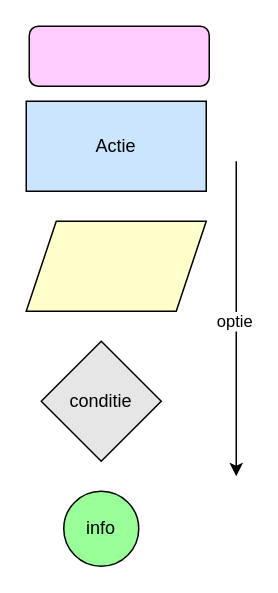
Image size: 278x593. Some labels were removed from this diagram. Here are the shapes that lost their labels. From the top down, the box of each, then its label:
(28, 25, 209, 86): Start / End
(25, 220, 206, 311): input
